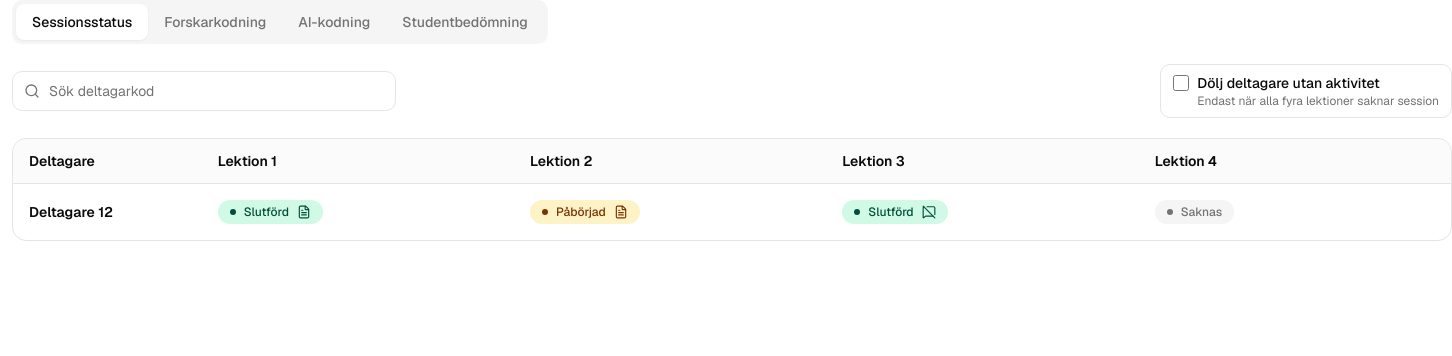
Test: OverviewTable › shows the three session states and links every lesson cell
The image size is (1452, 356).
Expected: the text "Slutförd" is shown 2 times, [218,200,323,224]; [842,200,948,224]
Expected: the text "Påbörjad" is shown, [530,200,640,224]
Click the tab "Forskarkodning" at (215, 22), box [148,4,282,40]
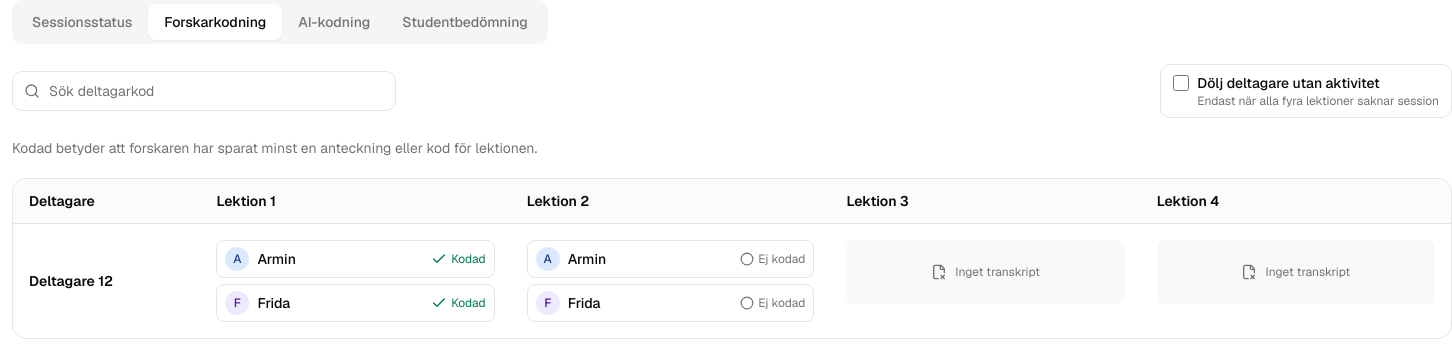
Expected: the text "Armin" is shown 2 times, [225,247,296,271]; [536,247,606,271]
Expected: the text "Frida" is shown 2 times, [225,291,290,315]; [536,291,600,315]
Expected: the text "Kodad" is shown 2 times, [431,251,486,267]; [431,295,486,311]
